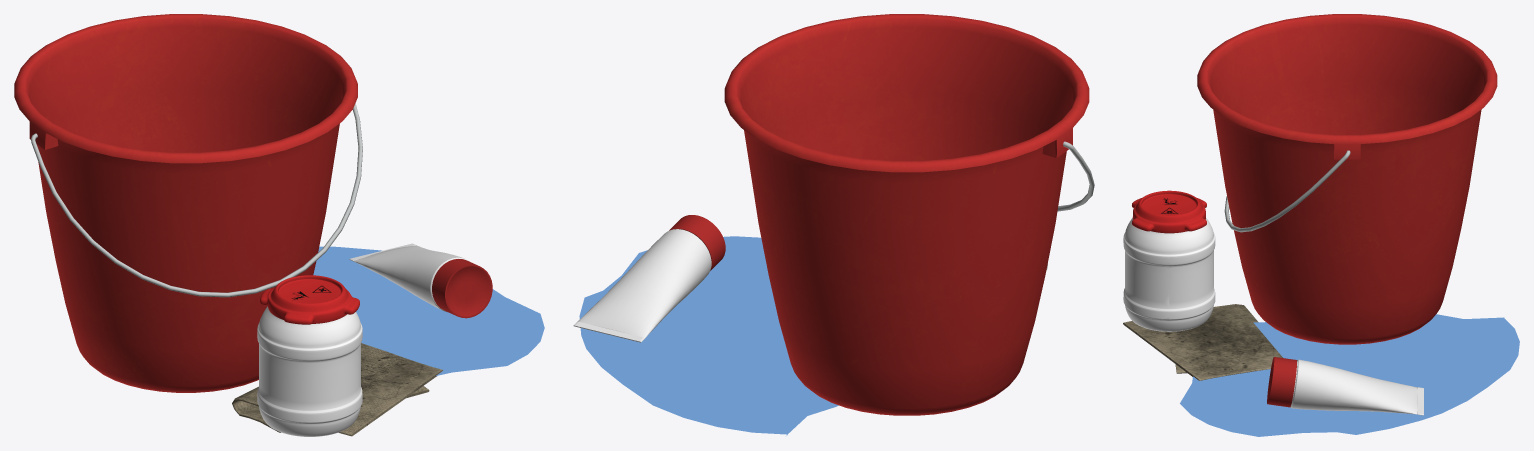
The model's file is cleaningSupplies.gltf.
3 renders of one model, left to right at view 1: azimuth 30°, elevation 25°; view 2: azimuth 150°, elevation 25°; view 3: azimuth 270°, elevation 25°, orthographic. The views are drawn at different scales.
Visible parts, largest first — view 1: Bucket3, Plane.001, Circle, CreamTube, NurbsPath.002; view 2: Bucket3, Circle, CreamTube; view 3: Bucket3, Circle, Plane.001, NurbsPath.002, CreamTube.
Boxes of the visible parts, x1,y1,x2,y2 form: Bucket3: (14,14,362,392); Plane.001: (257,275,362,436); Circle: (313,246,544,375); CreamTube: (349,243,492,318); NurbsPath.002: (232,343,442,436); Bucket3: (724,14,1094,415); Circle: (579,236,838,435); CreamTube: (573,215,725,342); Bucket3: (1197,14,1497,344); Circle: (1180,314,1519,436); Plane.001: (1123,190,1215,331); NurbsPath.002: (1123,304,1282,380); CreamTube: (1267,357,1423,415).
Bounding box in the file's own units: 0.3671 × 0.2163 × 0.3146.
Materials: 5 (4 with a texture image).
